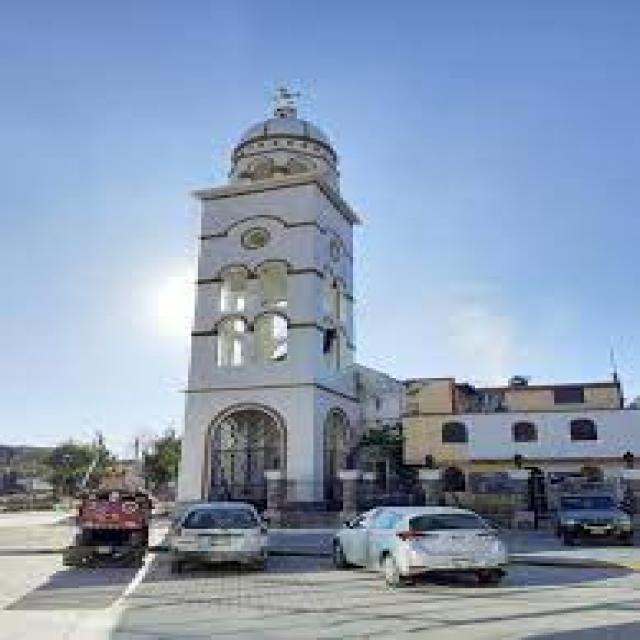CAMPANARIO: (188, 182, 363, 384)
CUPULA: (224, 112, 347, 177)
TORRES: (188, 89, 396, 541)
colonial-architecture-: (124, 66, 637, 540)
